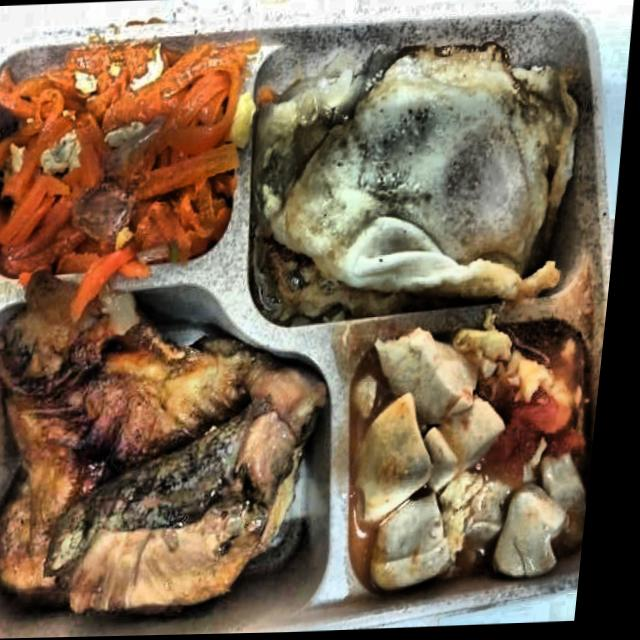Food: (266, 40, 589, 314), (0, 45, 248, 272)
